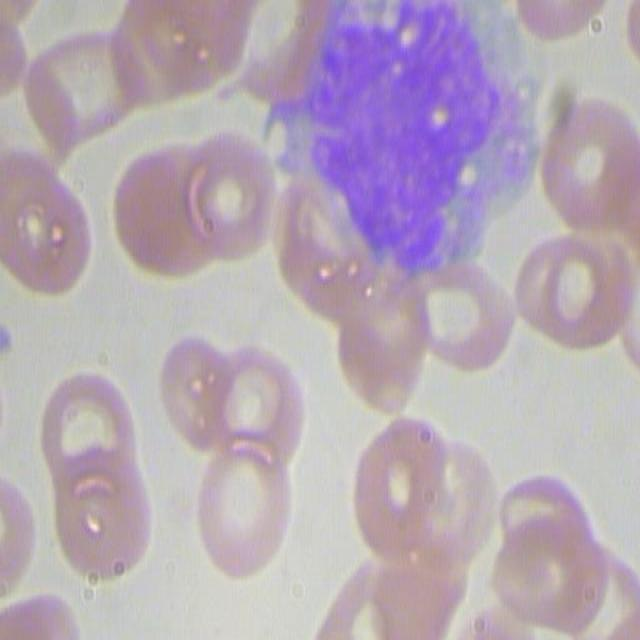RBC: (41, 361, 156, 585), (353, 406, 500, 560), (493, 459, 614, 633), (108, 1, 259, 115), (507, 221, 629, 354), (110, 130, 209, 286), (336, 251, 429, 414), (21, 32, 140, 157), (189, 426, 287, 576), (405, 253, 516, 381), (179, 125, 275, 271), (536, 100, 637, 234), (0, 160, 87, 300), (204, 340, 301, 462), (220, 0, 328, 101), (312, 565, 418, 640), (499, 0, 615, 46), (0, 458, 34, 590)
WBC: (301, 23, 538, 260)
